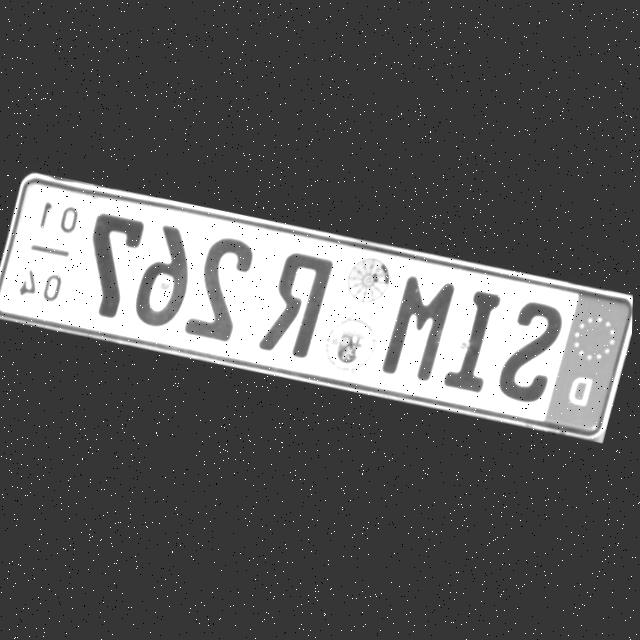license-plates: (0, 173, 633, 440)
